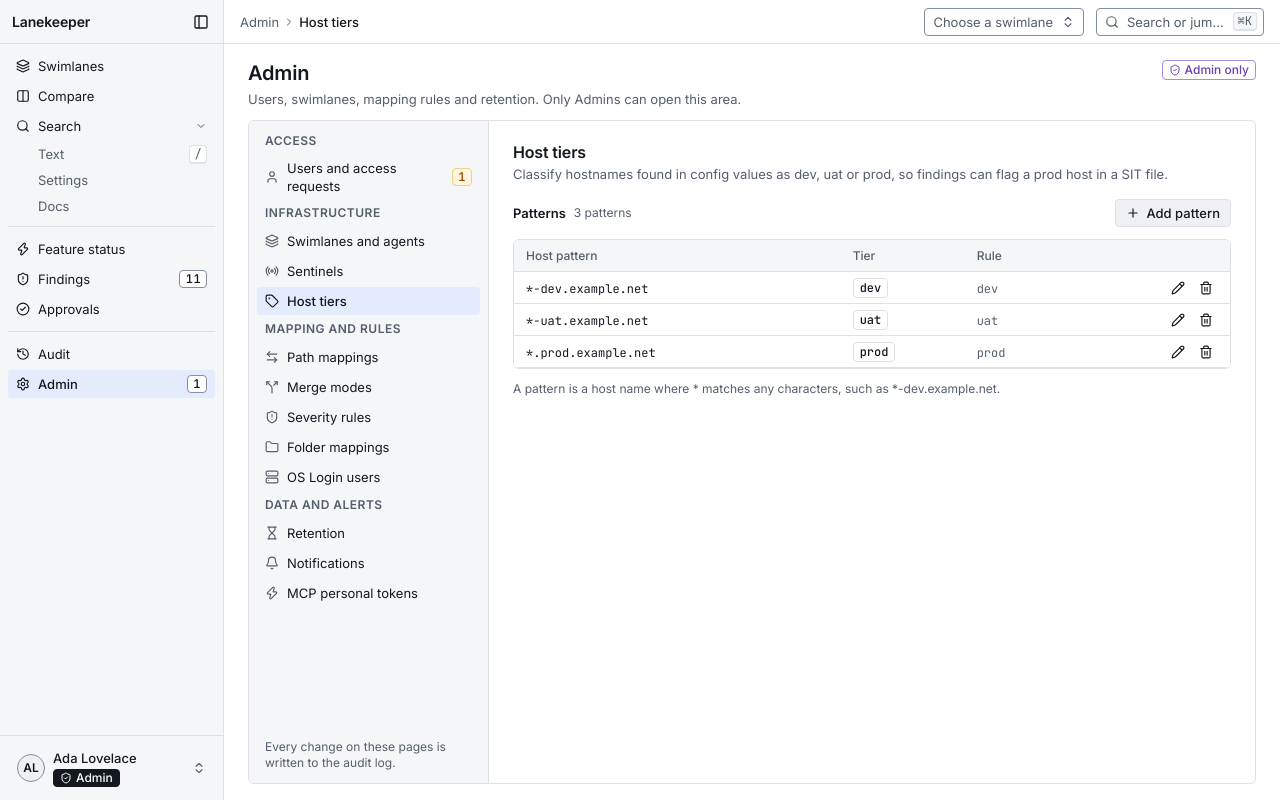
Test: adding, changing and deleting › adds a pattern with its tier after a dialog that says what it changes
The image size is (1280, 800).
Check: the heading "Admin" is shown, box x1=248 y1=61 x2=309 y2=85
Click the button "Add pattern": (1173, 213) x1=1116 y1=199 x2=1231 y2=227
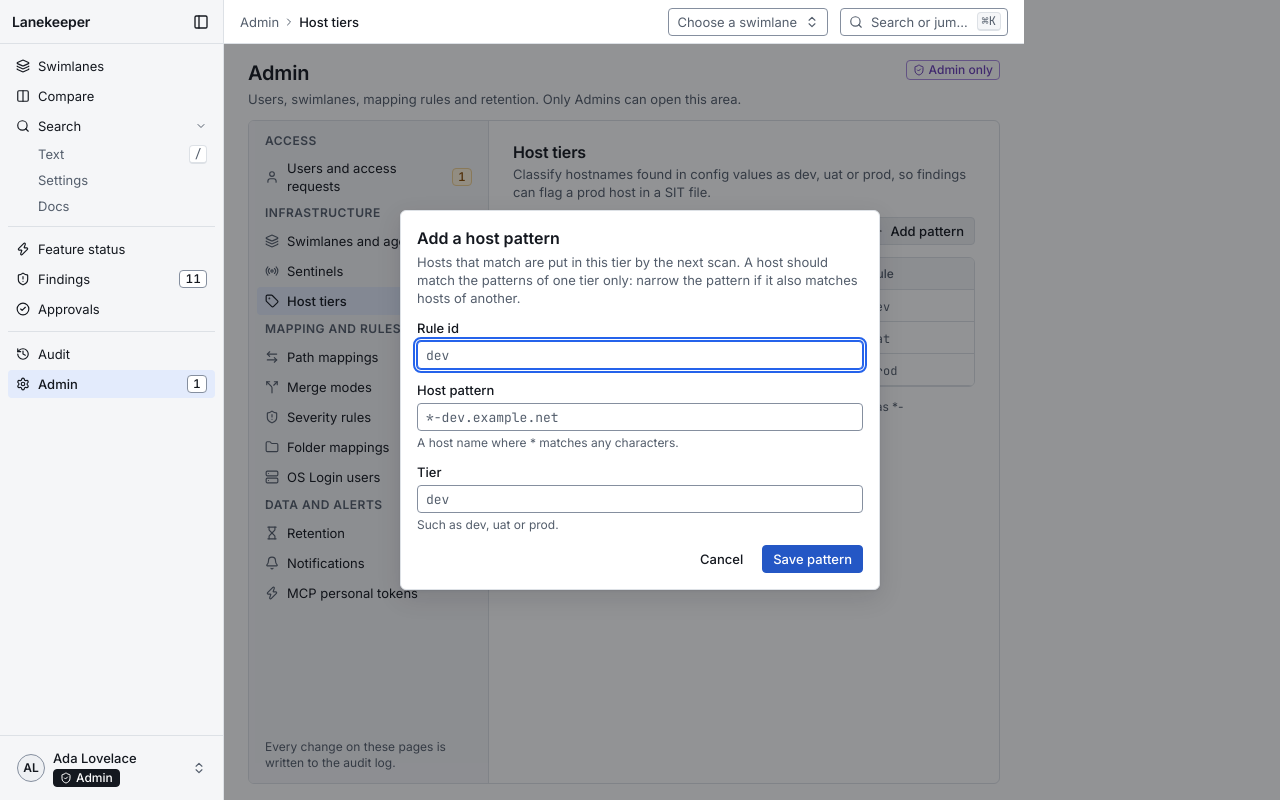
Check: the text "Hosts that match are put in this tier by the next scan" is shown, box x1=417 y1=254 x2=858 y2=306
In the field labelled "Rule id": (640, 355) x1=417 y1=341 x2=863 y2=369, type "uat-pre"
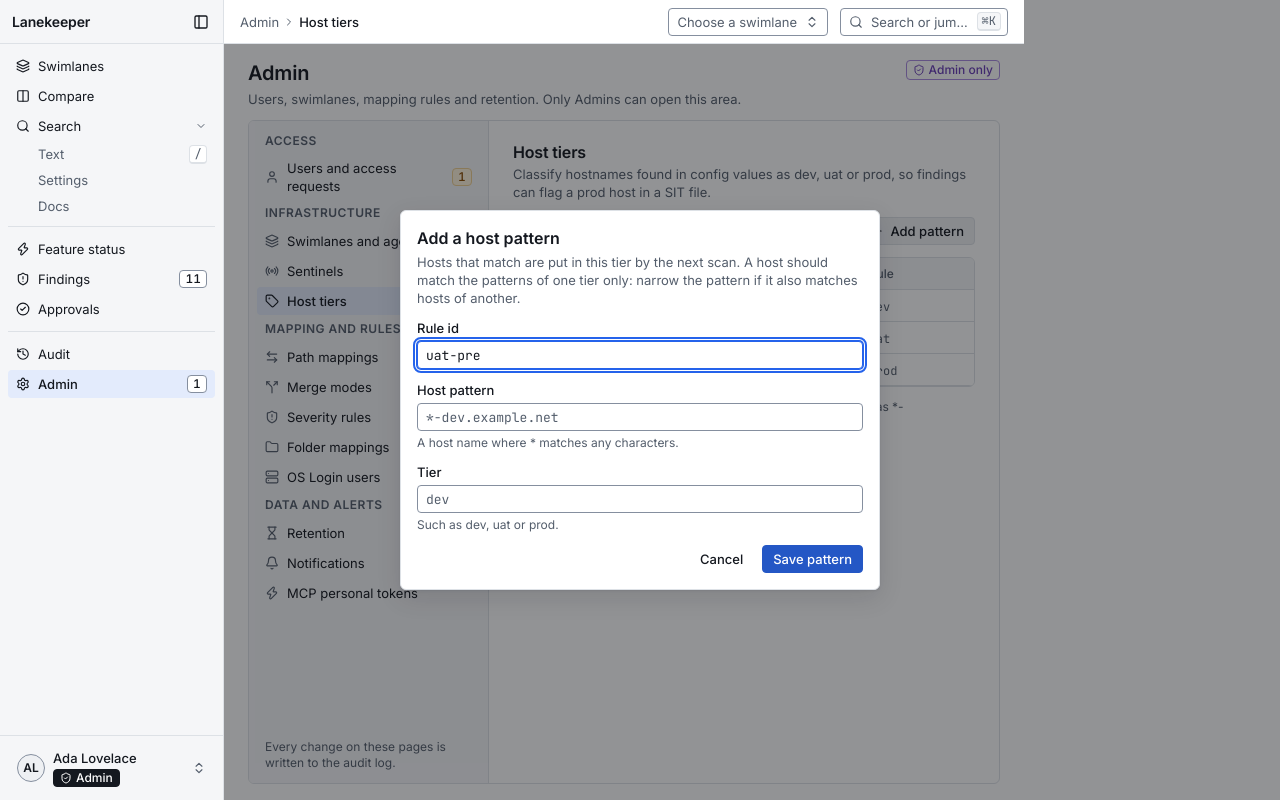
In the field labelled "Host pattern": (640, 417) x1=417 y1=403 x2=863 y2=431, type "*-pre.example.net"
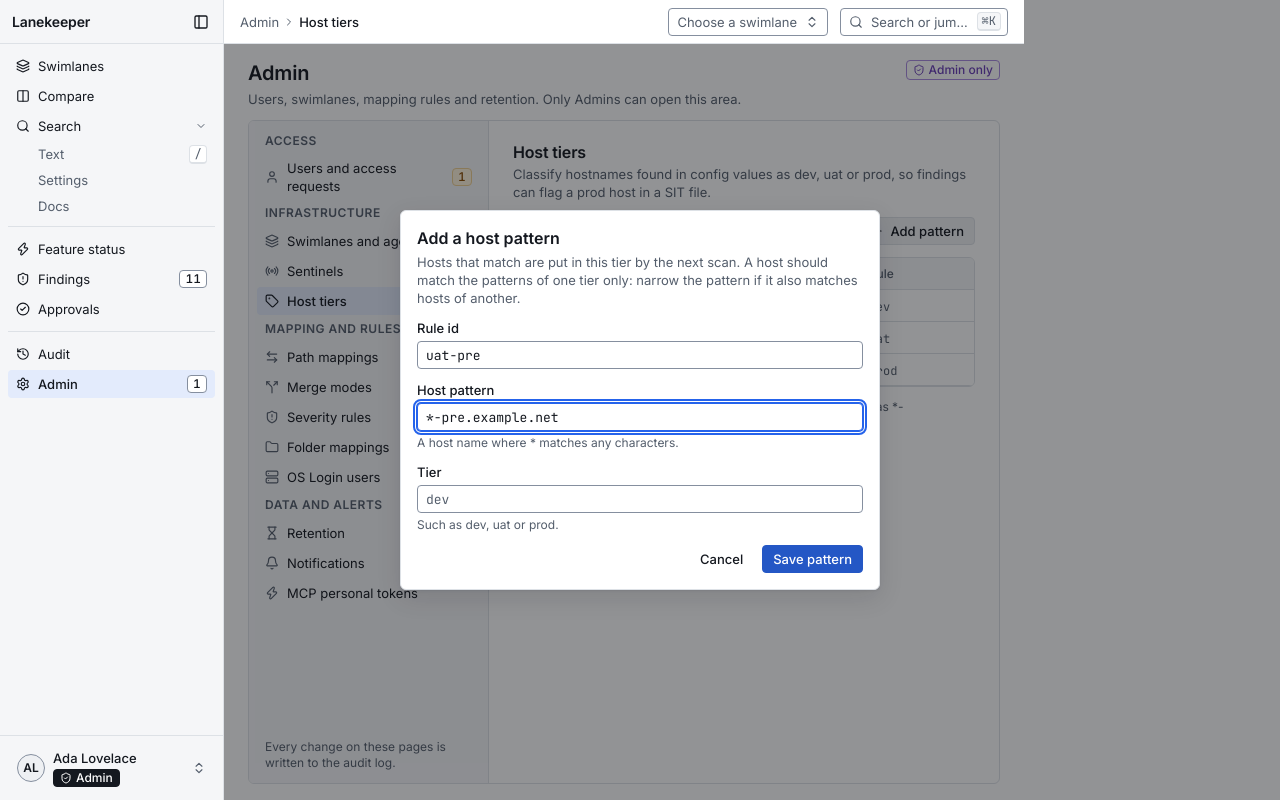
In the field labelled "Tier": (640, 499) x1=417 y1=485 x2=863 y2=513, type "uat"
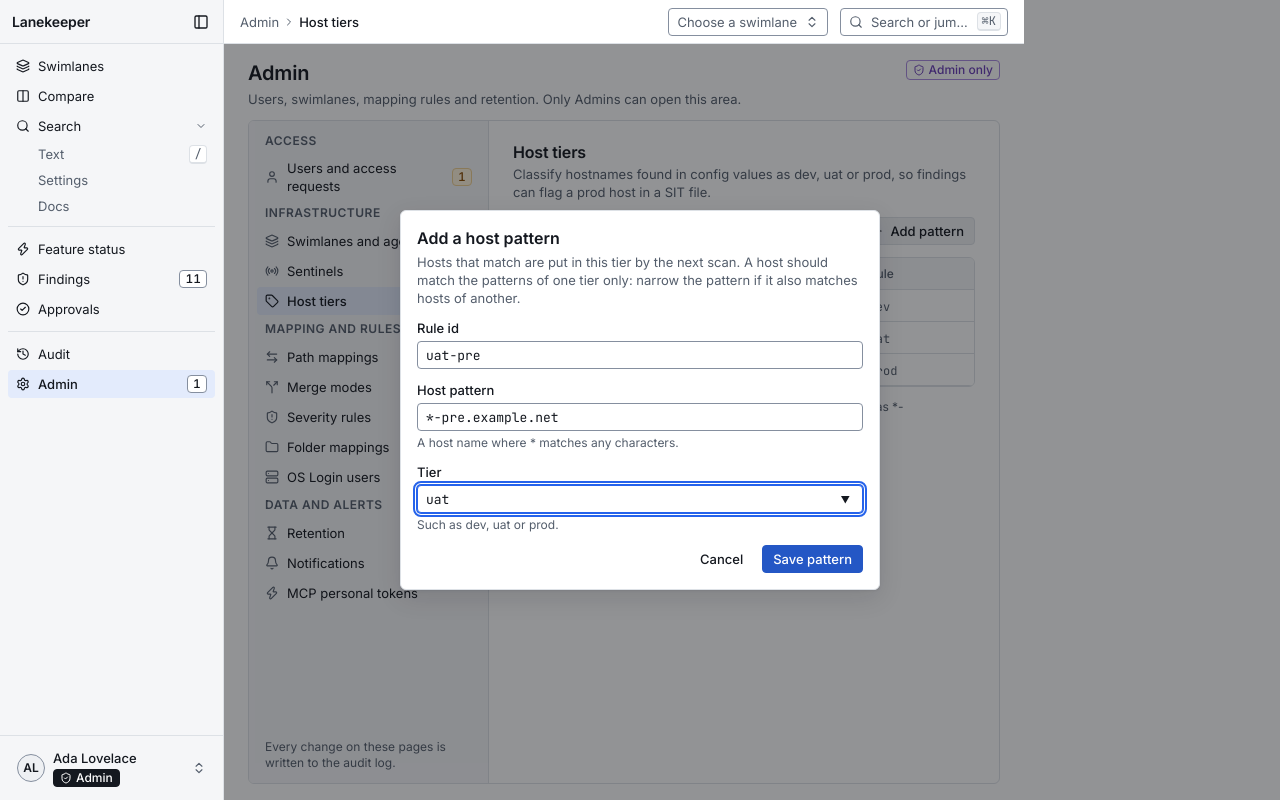
Click the button "Save pattern": (813, 559) x1=762 y1=545 x2=863 y2=573
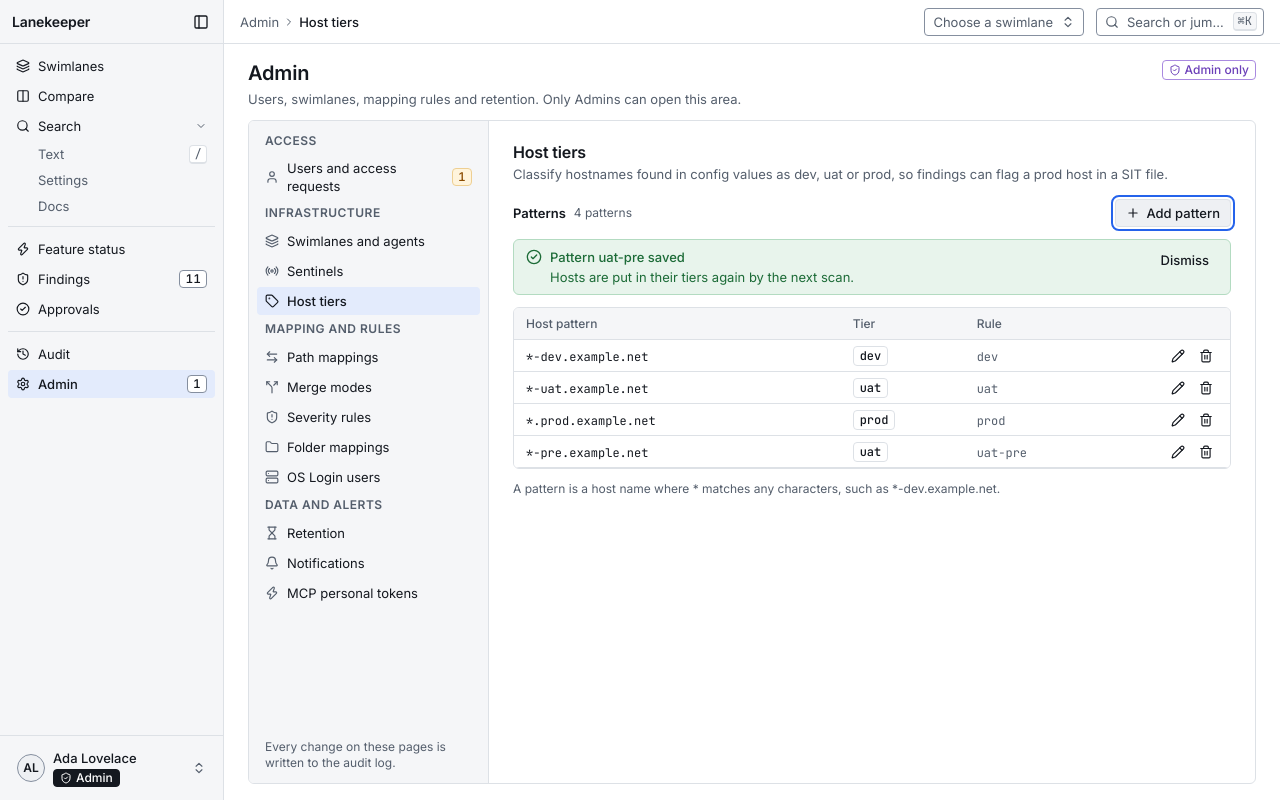
Check: the dialog is gone
Check: the text "Pattern uat-pre saved" is shown, box x1=550 y1=249 x2=685 y2=265
Check: the text "*-pre.example.net" is shown, box x1=526 y1=444 x2=648 y2=460
